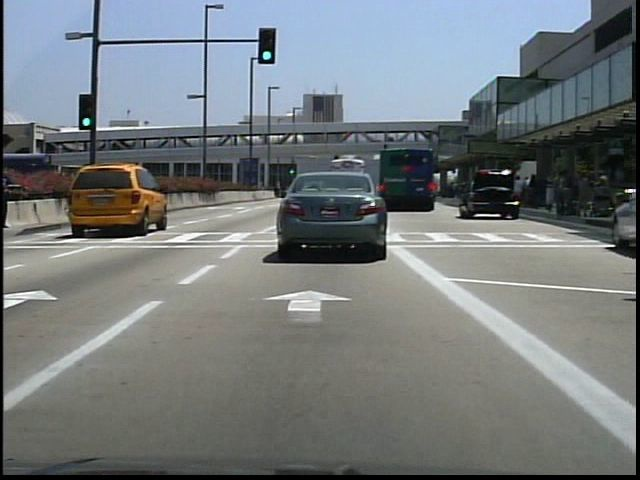person: (3, 163, 16, 227)
